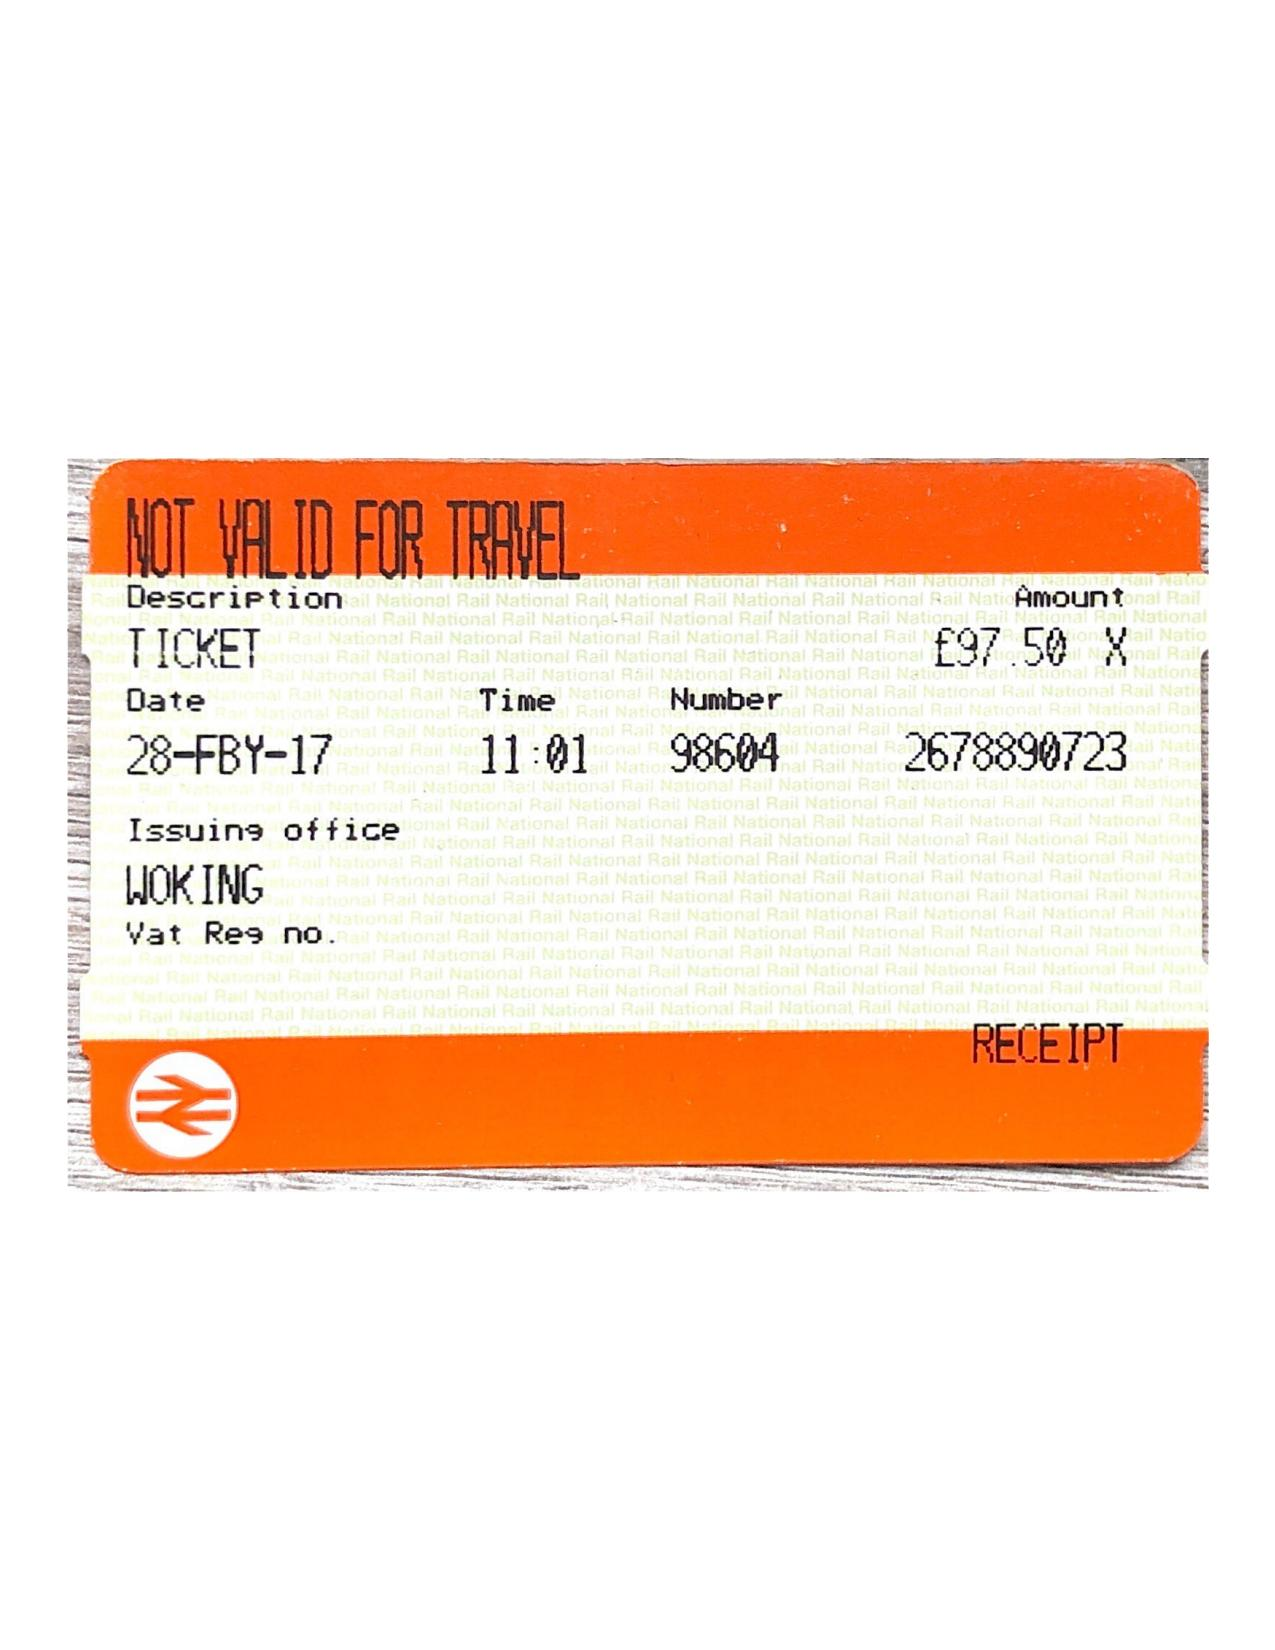Amount: (932, 613, 1077, 686)
Date: (127, 734, 331, 774)
company_name: (126, 864, 262, 904)
